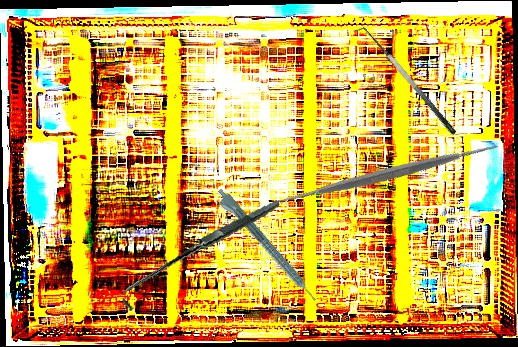Handpiece: (211, 186, 319, 308)
Hook Surgical: (121, 176, 280, 333)
Spatula Surgical: (268, 53, 507, 294), (353, 19, 458, 144)
